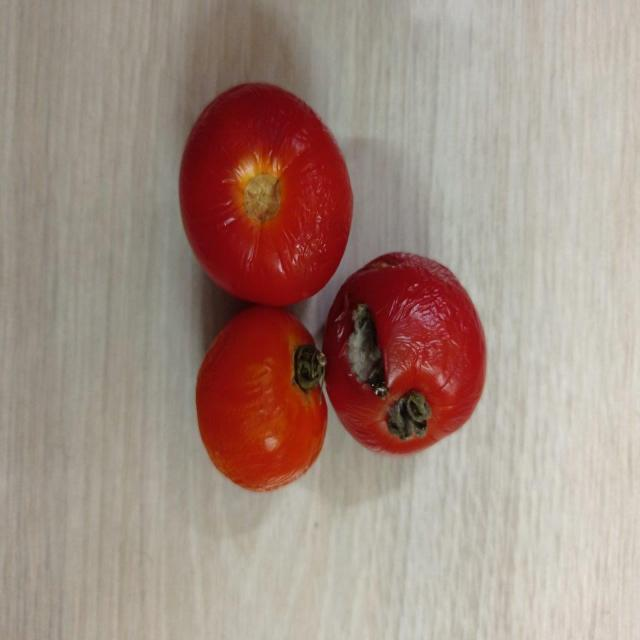Rotten: (322, 249, 487, 454)
overripe: (182, 83, 354, 304)
